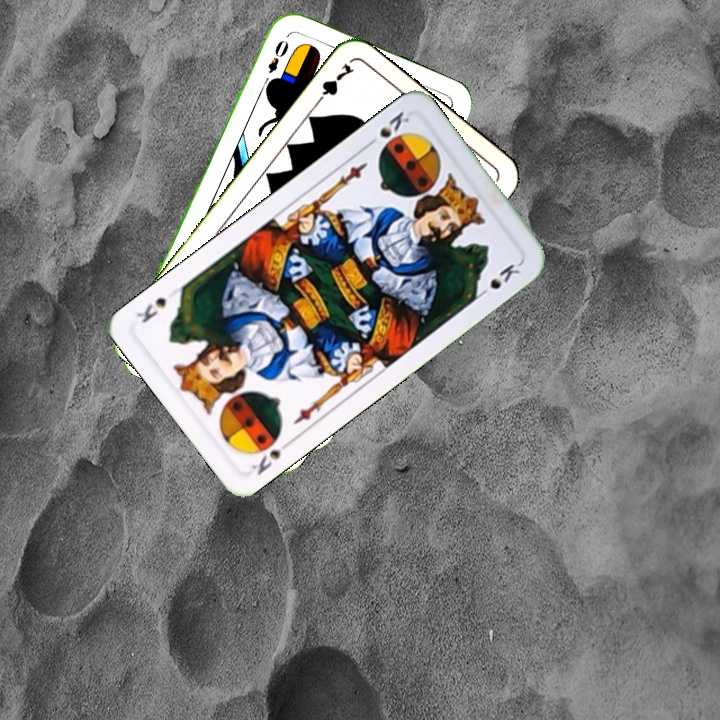EO: (259, 35, 291, 88)
G7: (310, 59, 357, 109)
SK: (361, 107, 412, 154), (247, 435, 294, 478)
